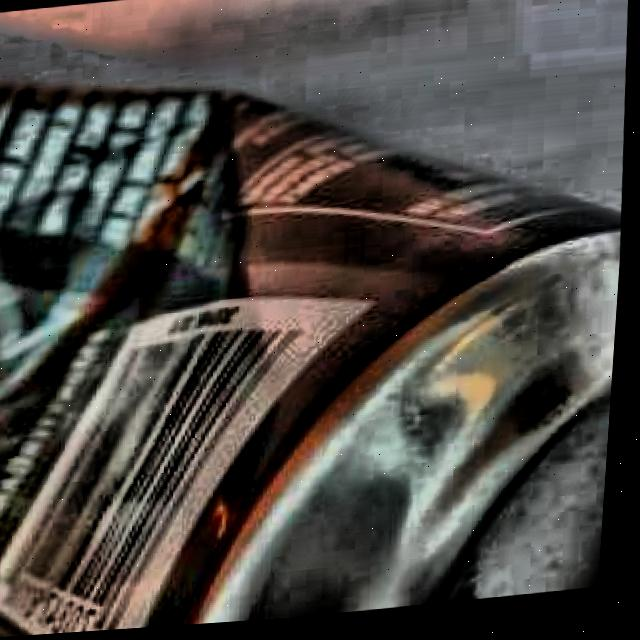metal: (0, 82, 625, 638)
